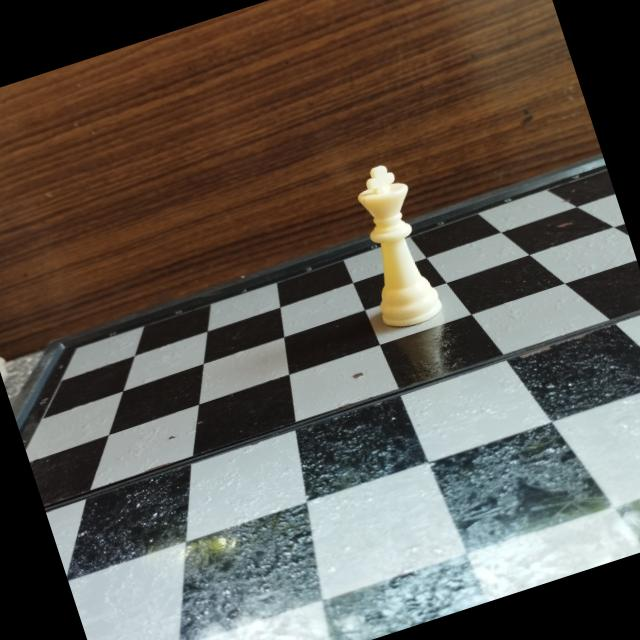White King: (330, 152, 458, 344)
